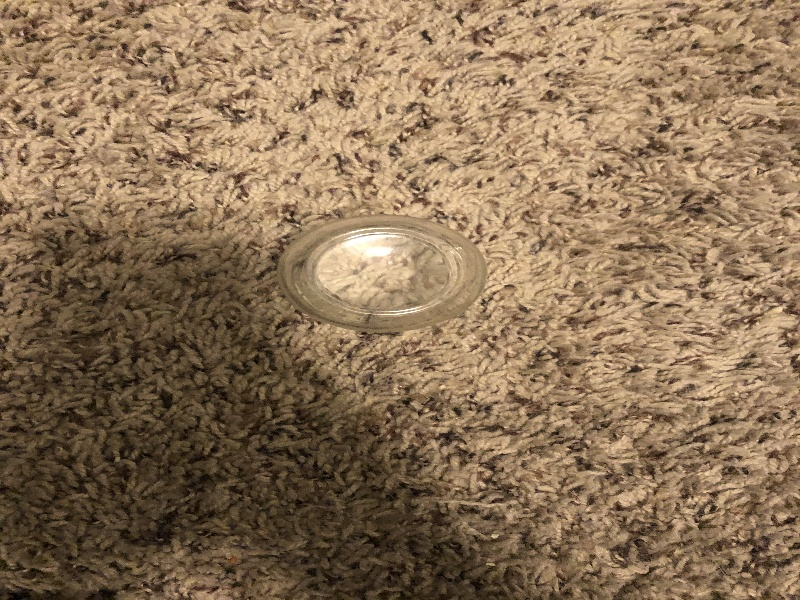glass: (274, 212, 495, 333)
